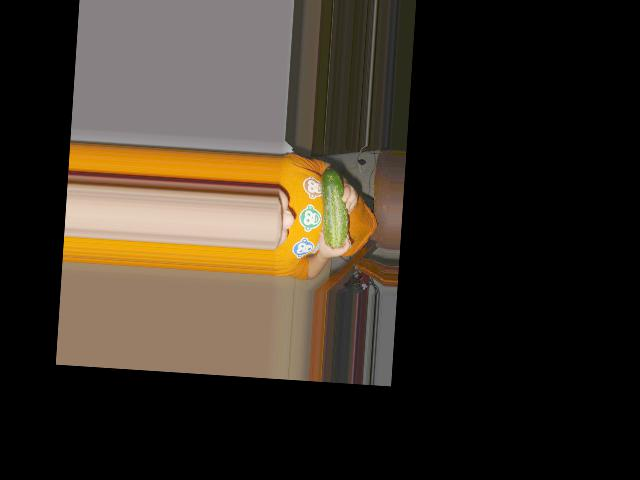cucumber: (317, 167, 352, 249)
